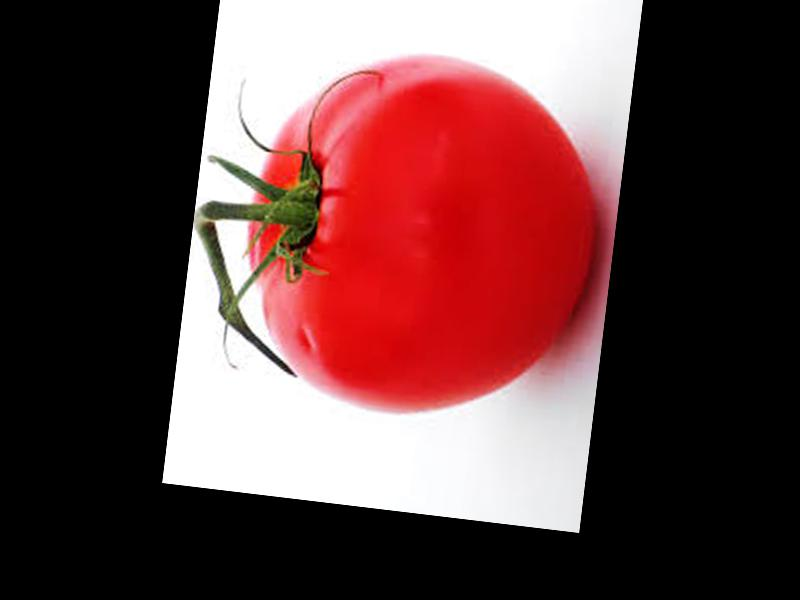Tomato: (231, 32, 616, 431)
